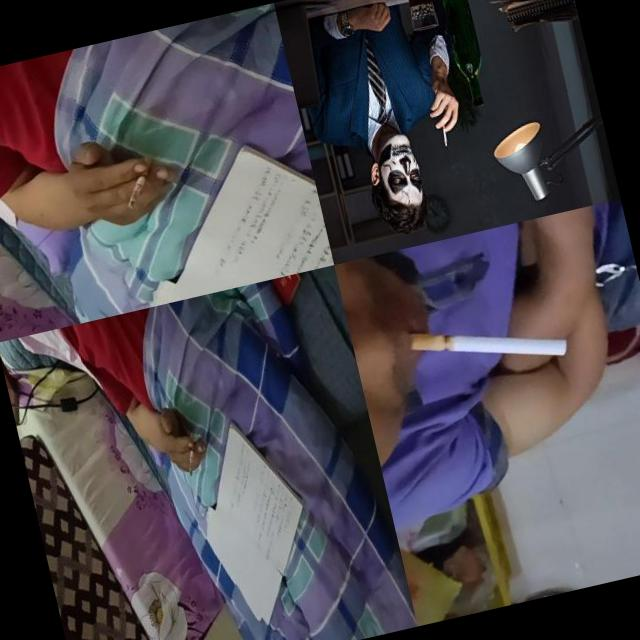smoke: (404, 299, 570, 390), (118, 154, 162, 208), (180, 431, 202, 476), (440, 122, 450, 147)
